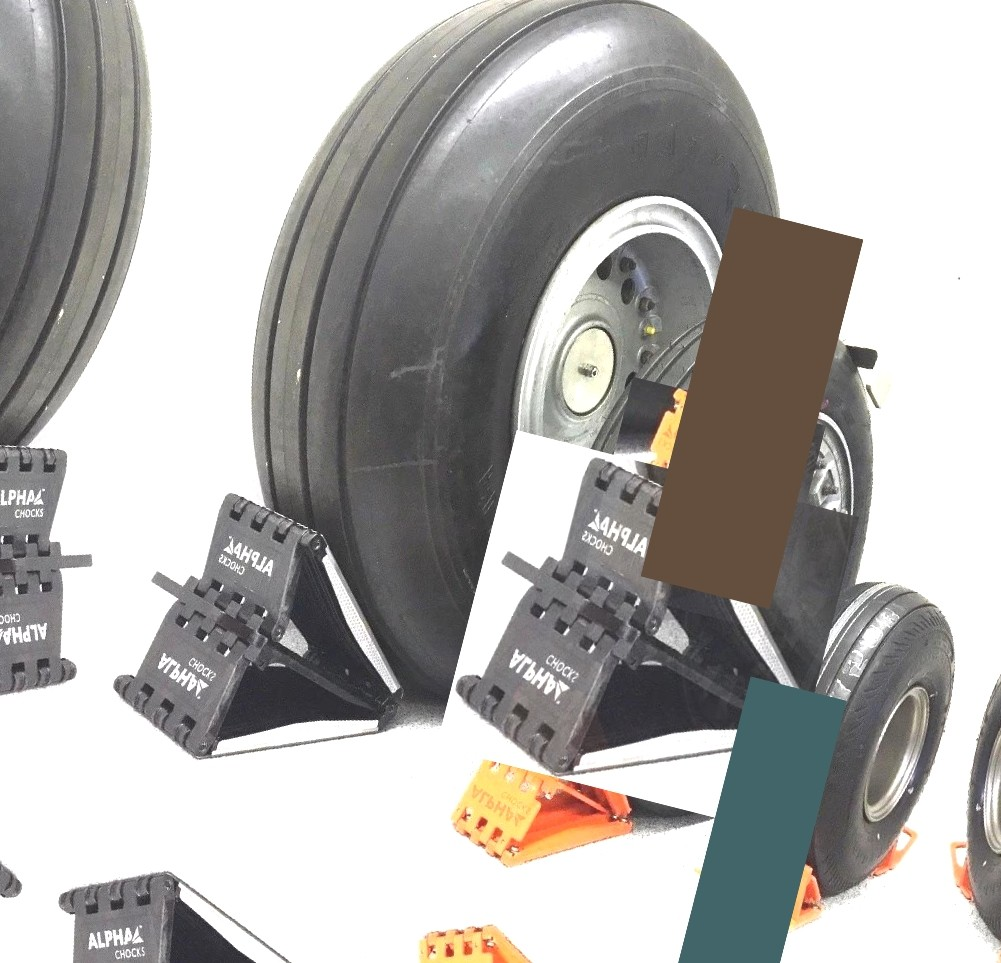chock: (436, 430, 859, 834), (96, 471, 450, 808), (581, 377, 826, 633), (437, 654, 669, 895), (0, 390, 133, 728), (1, 845, 355, 963), (681, 813, 840, 949)
wheel: (174, 0, 852, 770), (513, 278, 913, 832), (719, 560, 977, 915)
